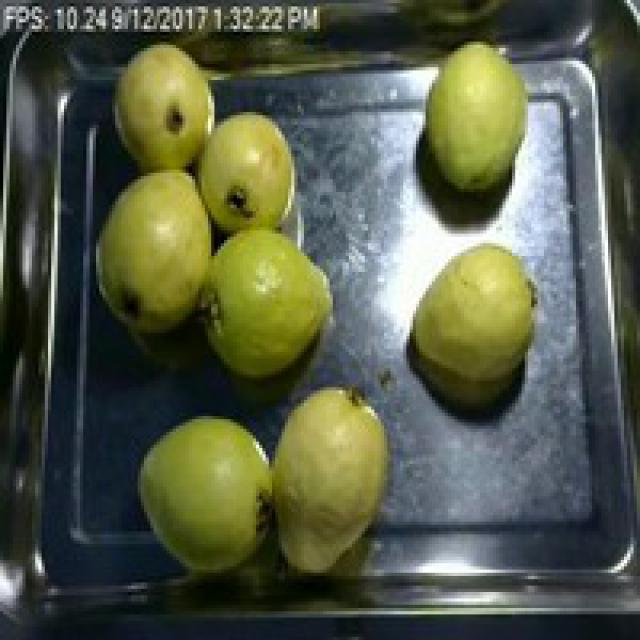Fruit: (400, 234, 554, 426), (272, 371, 406, 589), (83, 160, 234, 349), (403, 26, 547, 214), (195, 211, 349, 384), (128, 406, 275, 580), (102, 32, 228, 182)
